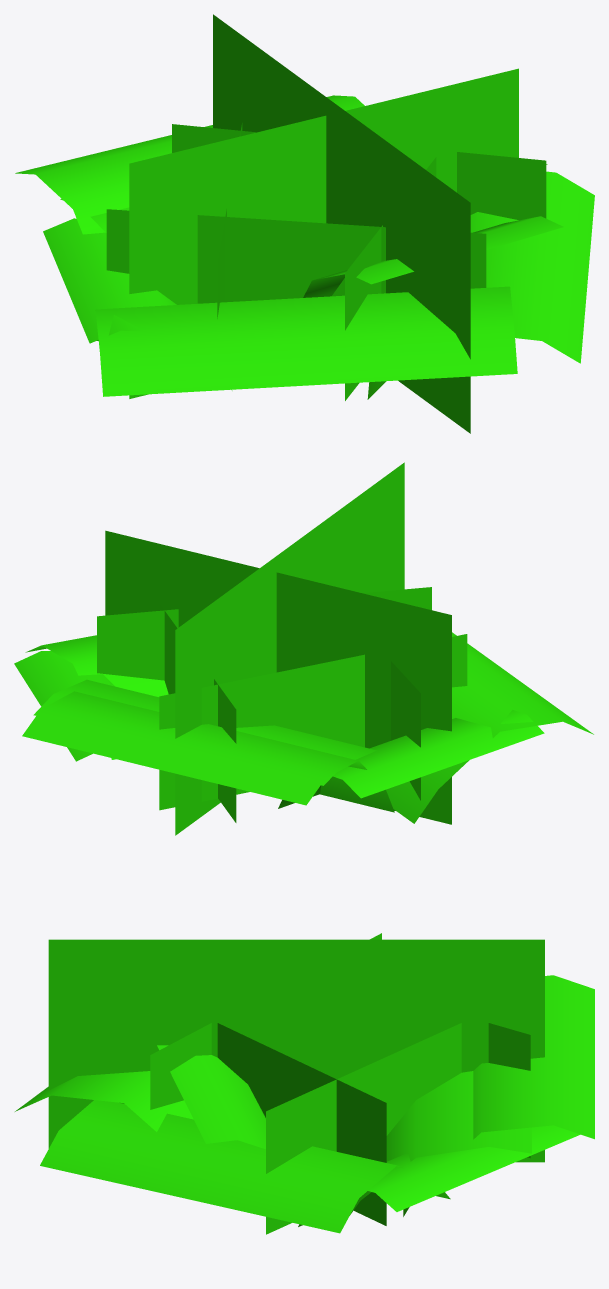
File: S_Grass0.fbx
3 views of the same model, one above another, from view 1: azimuth 30°, elevation 25°; view 2: azimuth 150°, elevation 25°; view 3: azimuth 270°, elevation 25° (orthographic). The views are drawn at different scales.
Parts seen in each view (by area): view 1: GrassEDGE; view 2: GrassEDGE; view 3: GrassEDGE.
Boxes of the visible parts, <box> form: GrassEDGE: <box>15,14,594,433</box>; GrassEDGE: <box>14,462,593,835</box>; GrassEDGE: <box>15,933,594,1234</box>.
Size of the model in its own units: 45.54 by 19.51 by 42.01.
